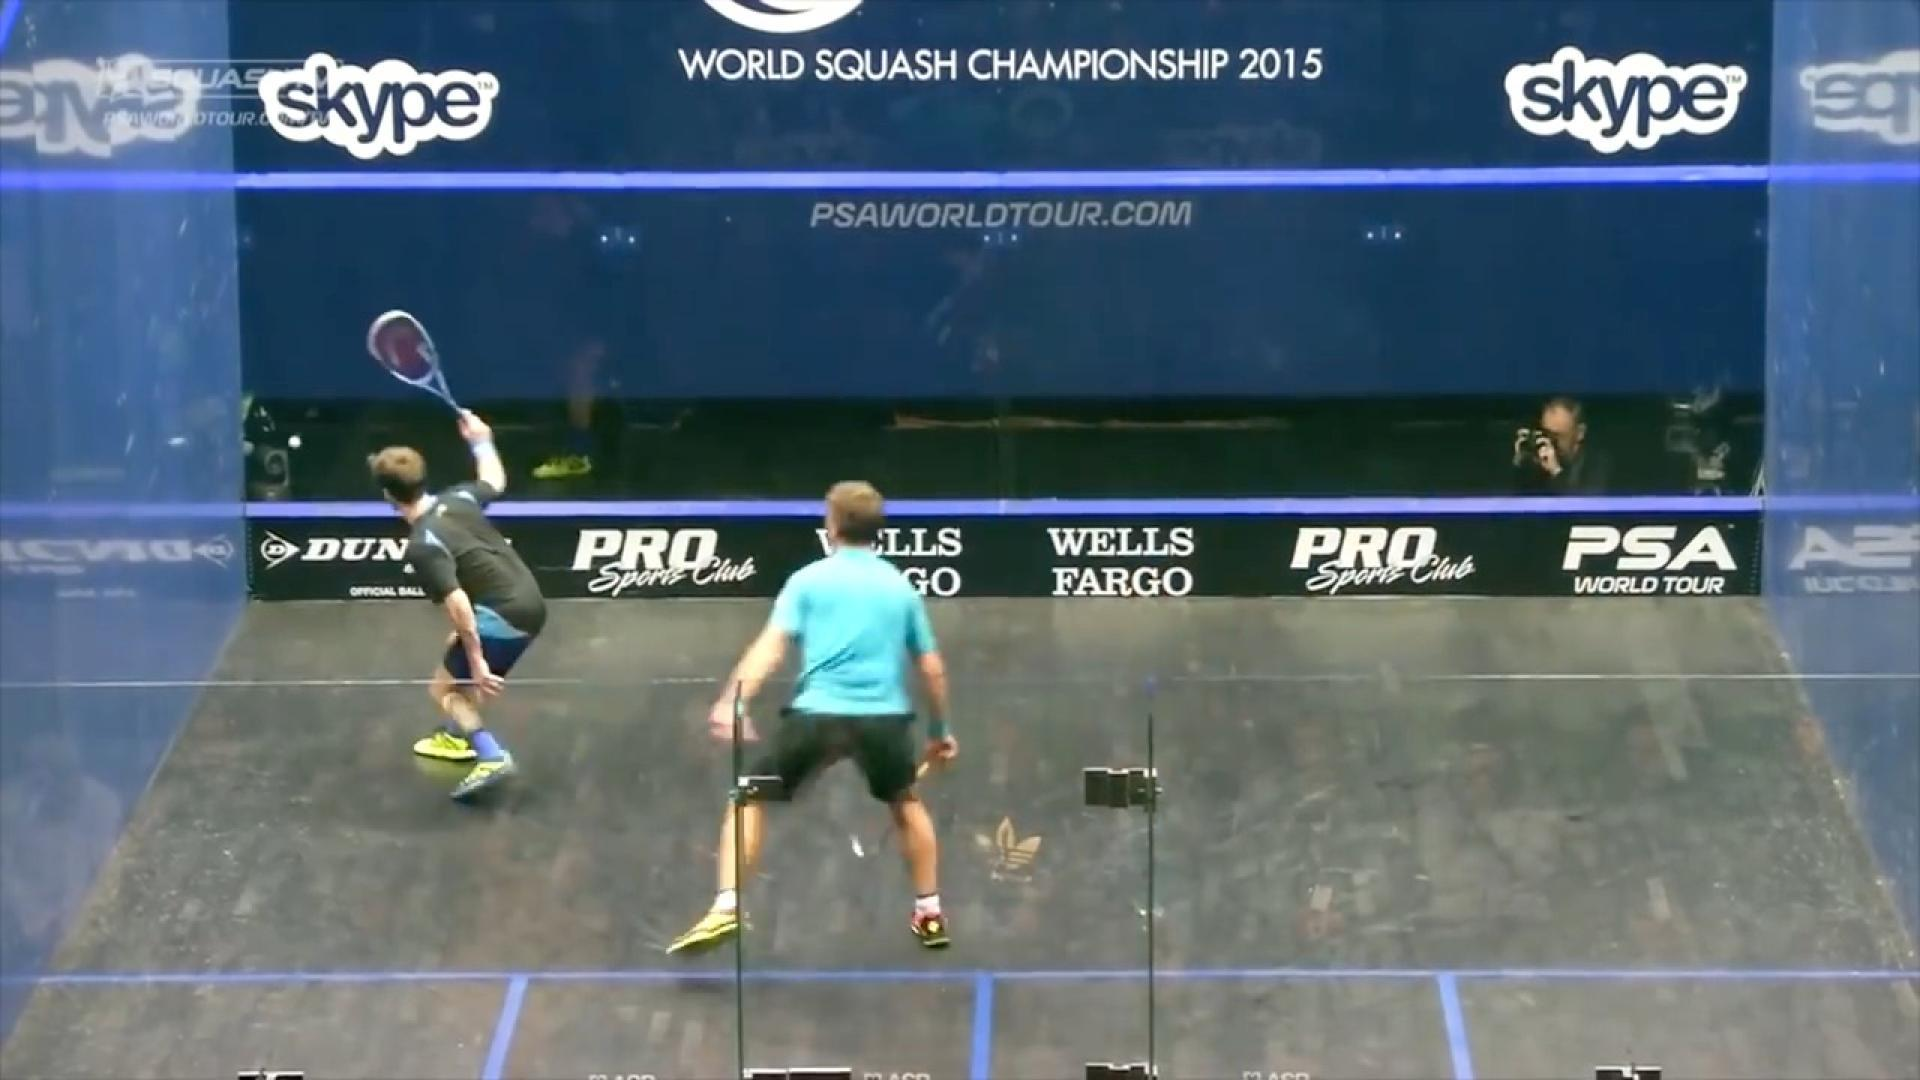Squash-Ball: (272, 413, 315, 472)
